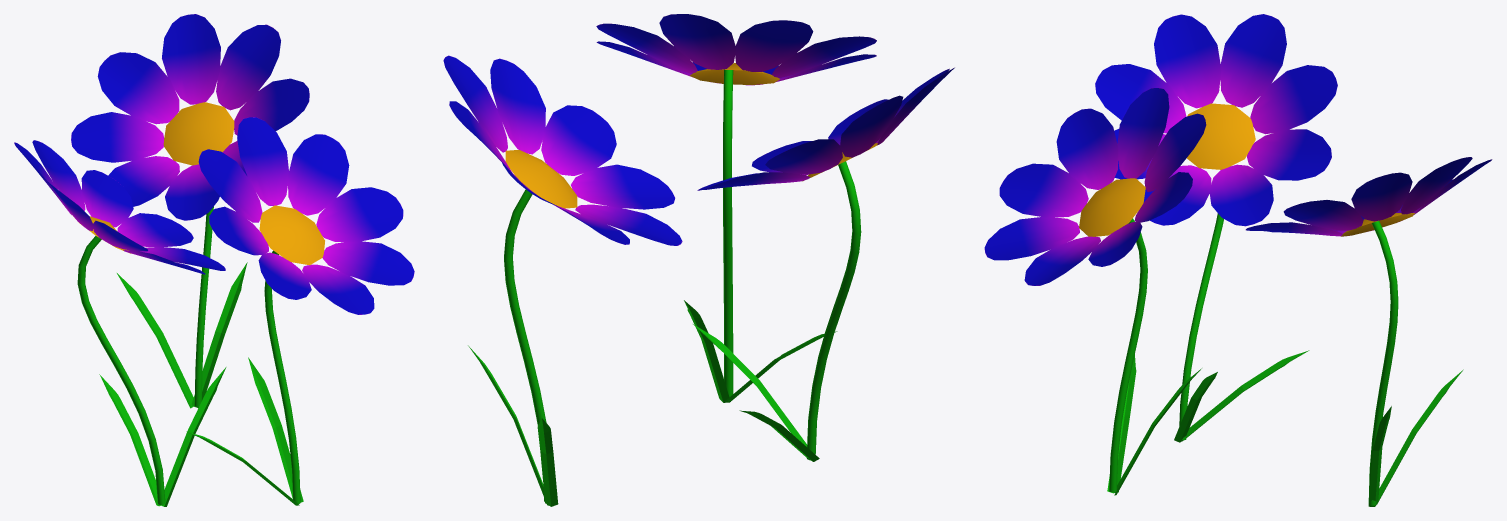
File: bleu flower bunch.fbx
The picture shows the model from 3 angles, left to right: view 1: azimuth 30°, elevation 25°; view 2: azimuth 150°, elevation 25°; view 3: azimuth 270°, elevation 25°; orthographic projection. The views are drawn at different scales.
Visible parts, largest first — view 1: blue flower bunch; view 2: blue flower bunch; view 3: blue flower bunch.
Boxes of the visible parts, x1=… form: blue flower bunch: x1=14, y1=14, x2=414, y2=506; blue flower bunch: x1=443, y1=14, x2=954, y2=506; blue flower bunch: x1=984, y1=14, x2=1492, y2=506.
Bounding box in the file's own units: 982 × 1036 × 1277.
